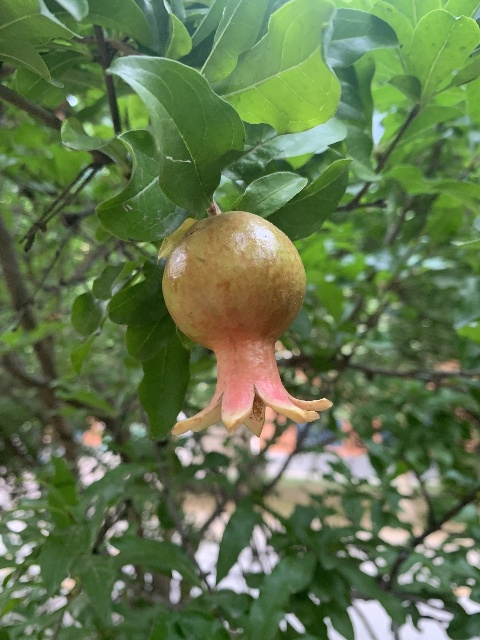early-fruit: (161, 210, 332, 439)
